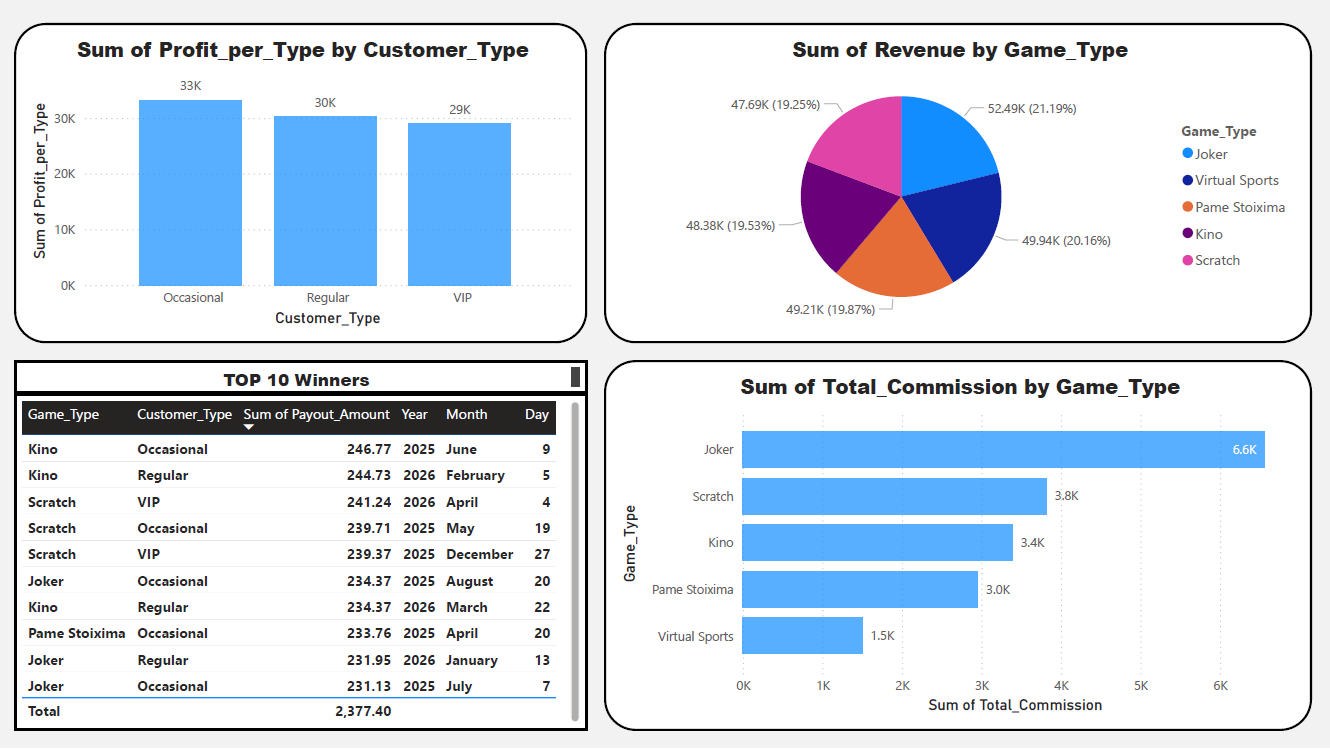

Layout of this report page (visuals, bound fields, positions):
{"tool":"powerbi","page":{"name":"Charts","canvas":[1280,720],"ordinal":1},"visuals":[{"type":"pieChart","fields":{"Y":["Sum(ggr_per_game.Revenue)"],"Category":["ggr_per_game.Game_Type"]},"box":[576,32,672,304],"z":0},{"type":"clusteredBarChart","fields":{"Y":["Sum(commisions.Total_Commission)"],"Category":["commisions.Game_Type"]},"box":[576,352,672,352],"z":1000},{"type":"clusteredColumnChart","fields":{"Category":["profit_per_customer_type.Customer_Type"],"Y":["Sum(profit_per_customer_type.Profit_per_Type)"]},"box":[16,32,544,304],"z":2000},{"type":"tableEx","fields":{"Values":["big_winners.Game_Type","big_winners.Customer_Type","Sum(big_winners.Payout_Amount)","big_winners.Date.Variation.Date Hierarchy.Year","big_winners.Date.Variation.Date Hierarchy.Month","big_winners.Date.Variation.Date Hierarchy.Day"]},"box":[16,384,544,320],"z":3000},{"type":"textbox","box":[16,352,544,32],"z":3001}]}

Visuals, with their boxes in screenshot pixels (x1, y1, x2, y2), scaled from the page's 1280x720 canvas onto the 1330x750 screenshot:
pieChart - Sum(ggr_per_game.Revenue) x ggr_per_game.Game_Type: select_region(598, 33, 1297, 350)
clusteredBarChart - Sum(commisions.Total_Commission) x commisions.Game_Type: select_region(598, 367, 1297, 733)
clusteredColumnChart - profit_per_customer_type.Customer_Type x Sum(profit_per_customer_type.Profit_per_Type): select_region(17, 33, 582, 350)
tableEx - big_winners.Game_Type x big_winners.Customer_Type: select_region(17, 400, 582, 733)
textbox: select_region(17, 367, 582, 400)
